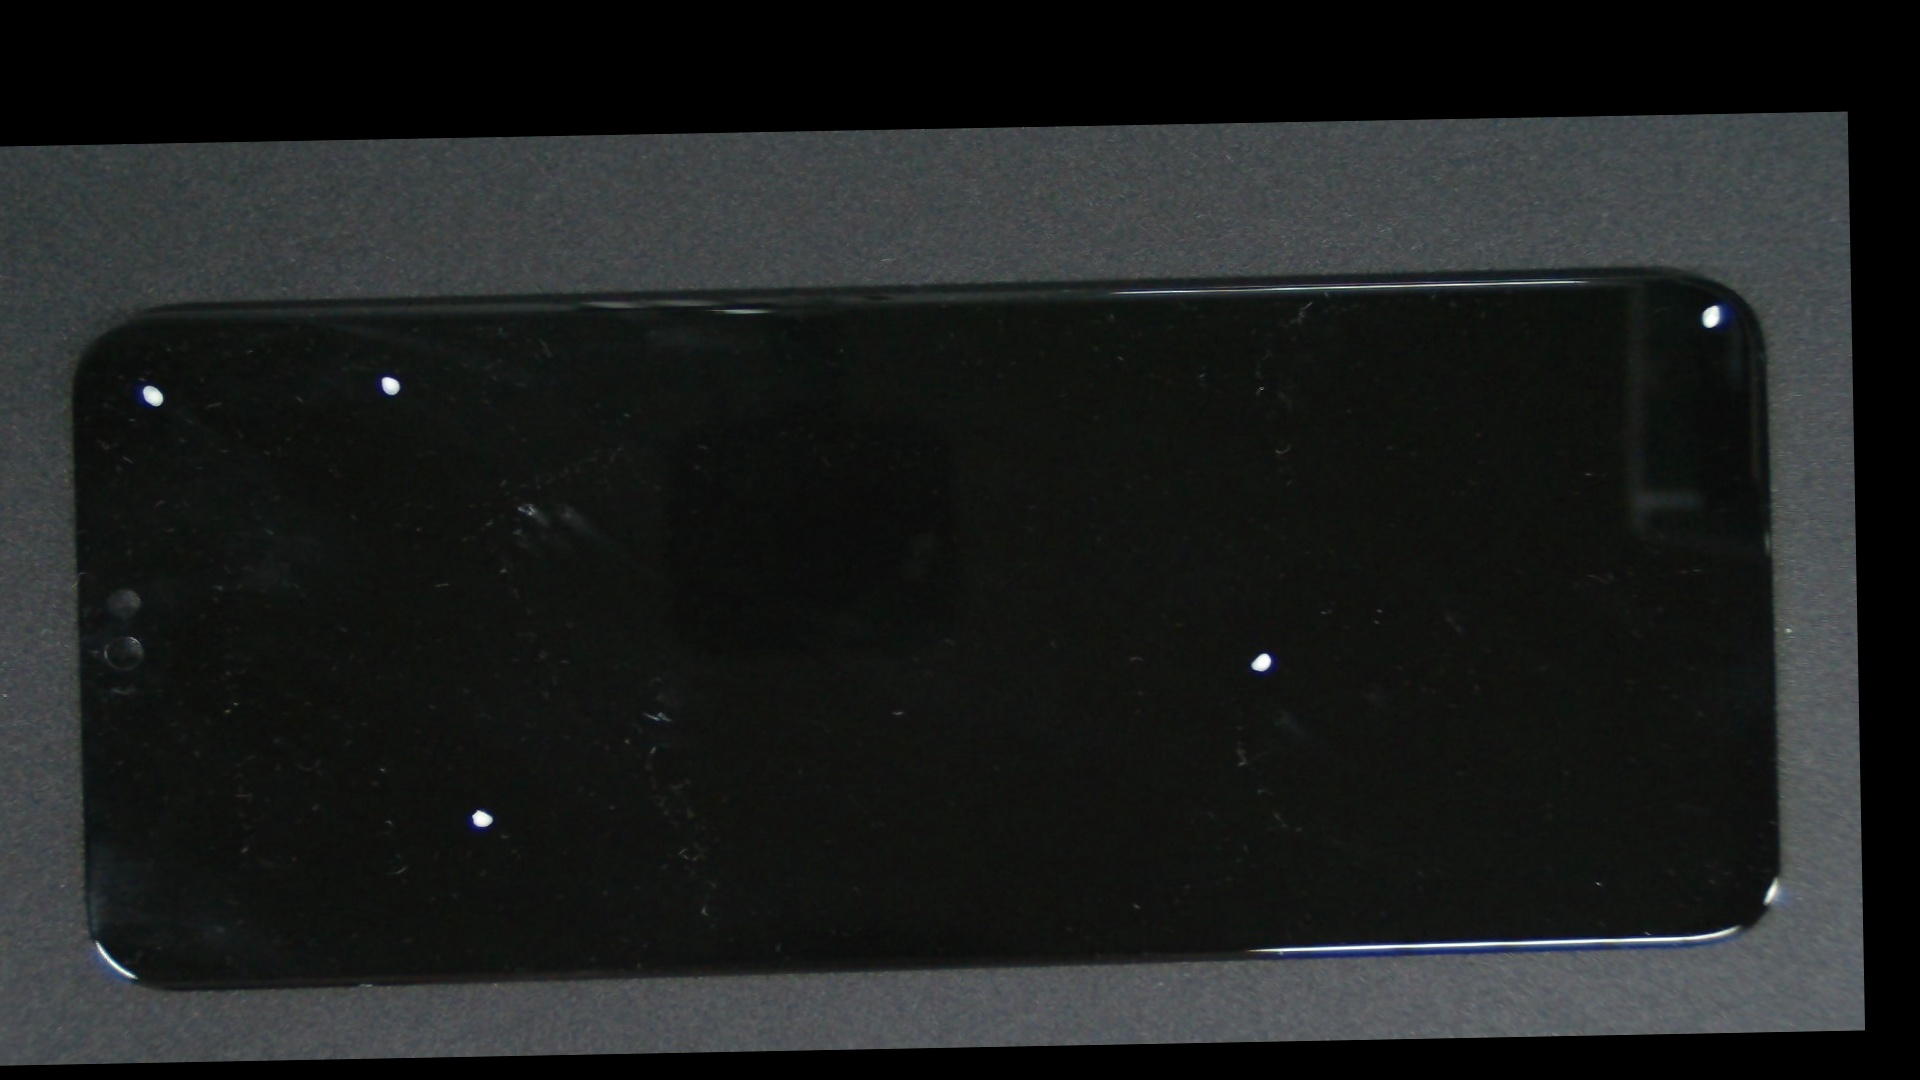oil: (605, 376, 1863, 930), (211, 468, 740, 1062), (236, 314, 815, 692), (829, 207, 1853, 417), (165, 253, 601, 498), (46, 261, 244, 508)
